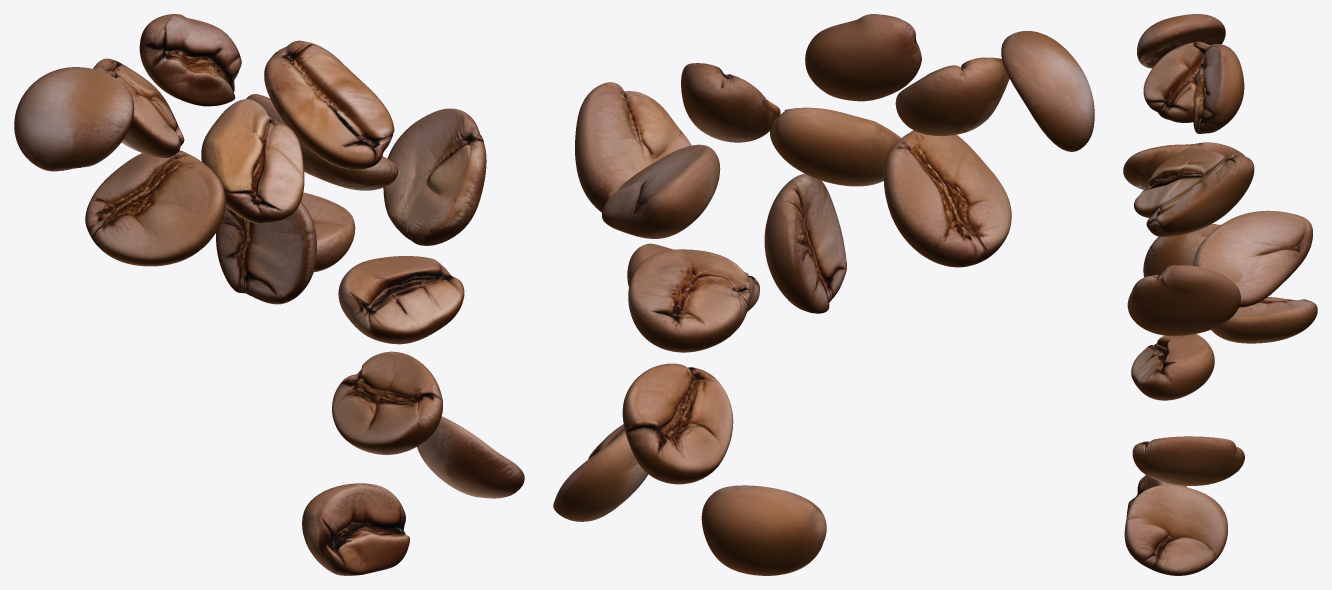
Rendered from seeds.glb.
3 renders of one model, left to right at view 1: azimuth 30°, elevation 25°; view 2: azimuth 150°, elevation 25°; view 3: azimuth 270°, elevation 25°, orthographic. The views are drawn at different scales.
Parts seen in each view (by area): view 1: node_0; view 2: node_0; view 3: node_0.
Boxes of the visible parts, <box> form: node_0: <box>14,14,524,575</box>; node_0: <box>553,14,1094,575</box>; node_0: <box>1123,14,1317,575</box>.
Bounding box in the file's own units: 0.85 × 0.9494 × 0.3838.
1 material, 1 textured.
